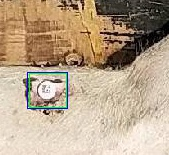text: (29, 73, 66, 107)
